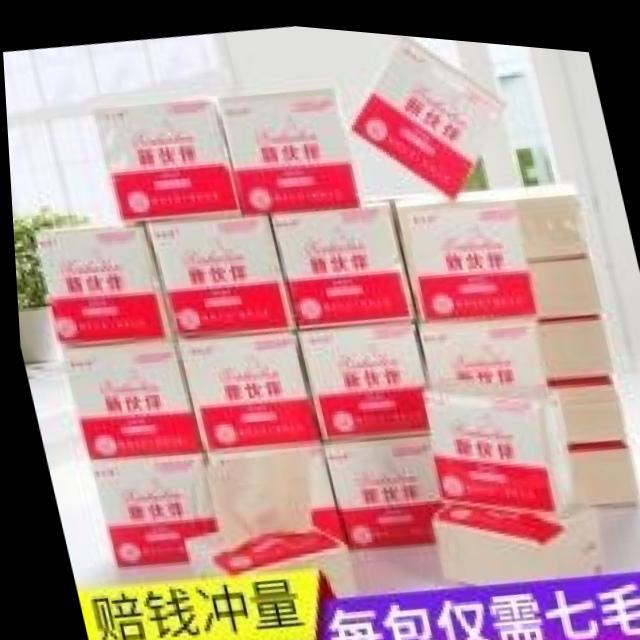box: (351, 28, 502, 188), (184, 447, 349, 589), (262, 195, 413, 321), (426, 367, 566, 501), (392, 182, 533, 312), (92, 98, 238, 221), (142, 211, 291, 331), (35, 218, 173, 346), (217, 82, 357, 208), (172, 323, 315, 446), (56, 335, 195, 457), (433, 481, 606, 576), (291, 314, 425, 433), (319, 421, 440, 540), (86, 448, 209, 565), (203, 438, 347, 537), (413, 306, 541, 383), (504, 169, 586, 252), (544, 369, 621, 437), (537, 303, 609, 373), (524, 245, 596, 308), (567, 431, 635, 493)
